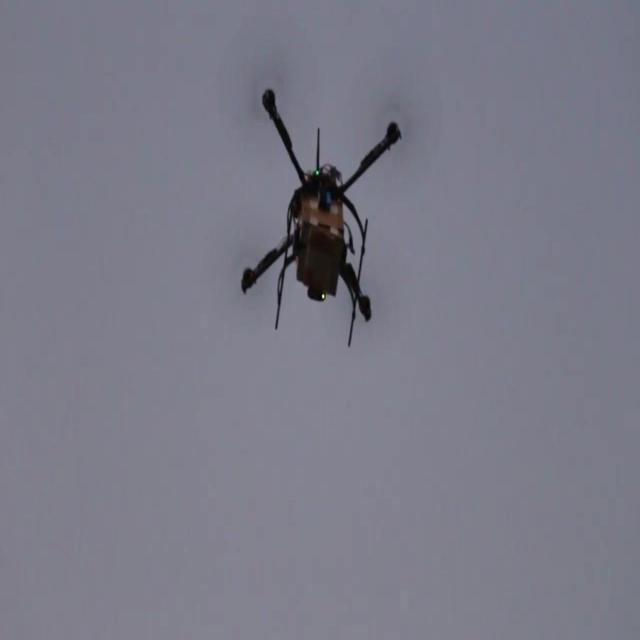drone: (242, 85, 402, 352)
